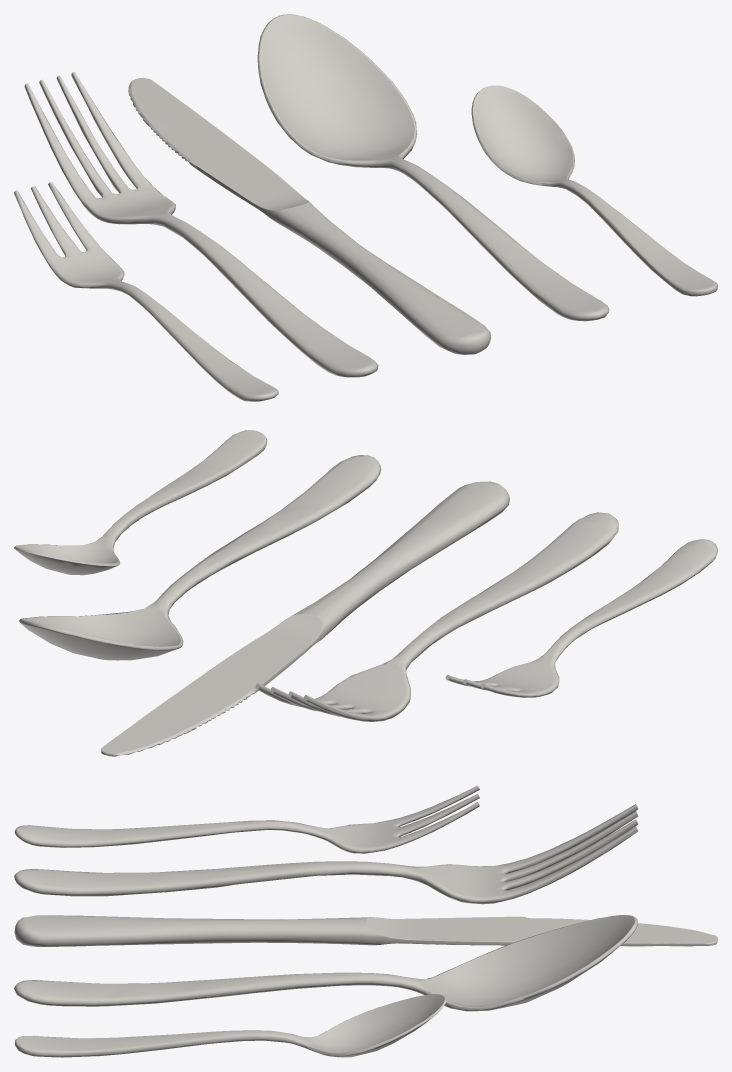
File: martorp_komplet_sztuccow_30_szt_30167507.glb
3 views of the same model, one above another, from view 1: azimuth 30°, elevation 25°; view 2: azimuth 150°, elevation 25°; view 3: azimuth 270°, elevation 25° (orthographic). The views are drawn at different scales.
Parts seen in each view (by area): view 1: martorp_komplet_sztuccow_30_szt_30167507; view 2: martorp_komplet_sztuccow_30_szt_30167507; view 3: martorp_komplet_sztuccow_30_szt_30167507.
Boxes of the visible parts, left/top/right/bottom form: martorp_komplet_sztuccow_30_szt_30167507: left=14, top=14, right=717, bottom=401; martorp_komplet_sztuccow_30_szt_30167507: left=14, top=430, right=717, bottom=756; martorp_komplet_sztuccow_30_szt_30167507: left=14, top=785, right=717, bottom=1057.
Bounding box in the file's own units: 0.1794 × 0.0271 × 0.2201.
5 materials, 5 textured.
